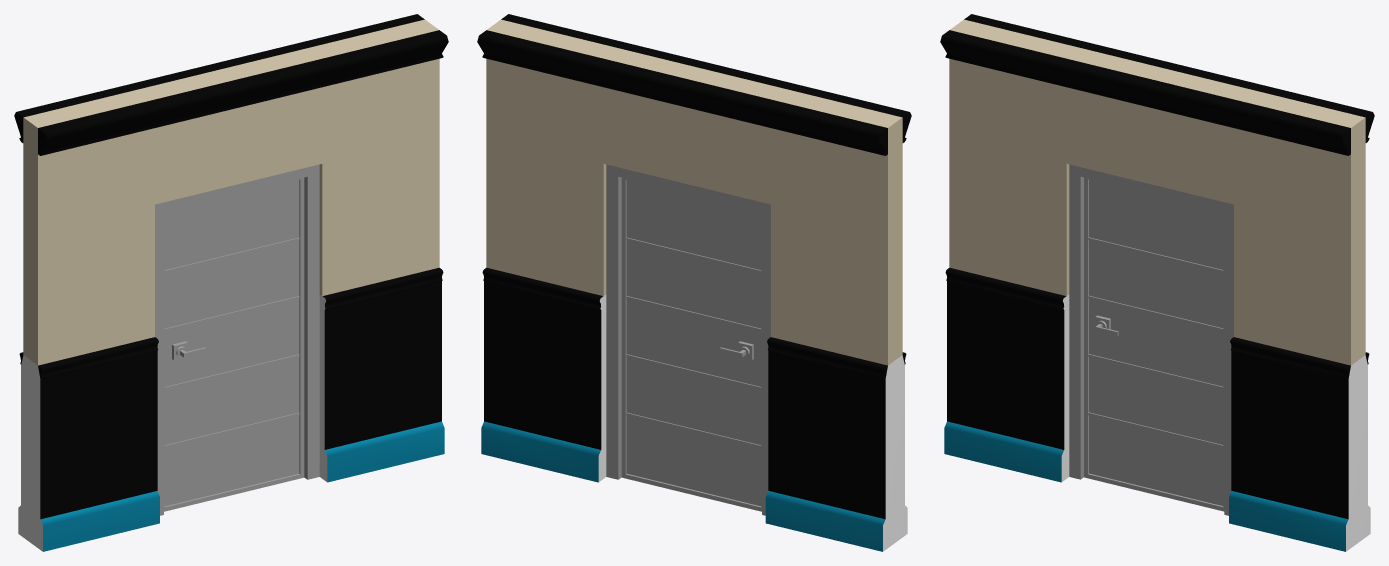
The model's file is Classic_WallDoor_01.fbx.
3 views of the same model, side by side, from view 1: azimuth 30°, elevation 25°; view 2: azimuth 150°, elevation 25°; view 3: azimuth 330°, elevation 25° (orthographic).
Parts seen in each view (by area): view 1: Classic_WallDoor_01_01_LOD00, Classic_WallDoor_01_02_LOD00; view 2: Classic_WallDoor_01_01_LOD00, Classic_WallDoor_01_02_LOD00; view 3: Classic_WallDoor_01_01_LOD00, Classic_WallDoor_01_02_LOD00.
Boxes of the visible parts, x1,y1,x2,y2 form: Classic_WallDoor_01_01_LOD00: (14, 14, 448, 551); Classic_WallDoor_01_02_LOD00: (155, 164, 319, 515); Classic_WallDoor_01_01_LOD00: (477, 14, 911, 551); Classic_WallDoor_01_02_LOD00: (606, 164, 770, 515); Classic_WallDoor_01_01_LOD00: (940, 14, 1374, 551); Classic_WallDoor_01_02_LOD00: (1069, 164, 1233, 515).
Size of what is drawn, in the model's own units: 300 by 300 by 42.83.
